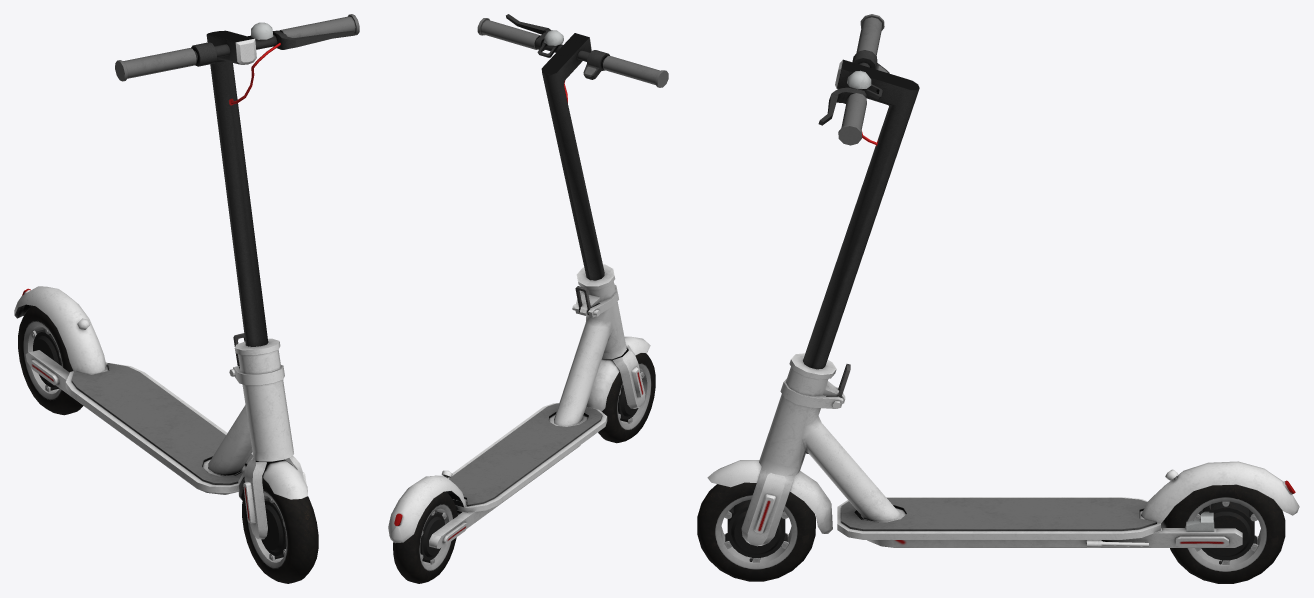
The model's file is SharedScooter.fbx.
3 views of the same model, side by side, from view 1: azimuth 30°, elevation 25°; view 2: azimuth 150°, elevation 25°; view 3: azimuth 270°, elevation 25° (orthographic). The views are drawn at different scales.
Visible parts, largest first — view 1: MainBody, HandleBar, FrontWheel, RearWheel, HandGripRight, HandGripLeft, Accelerator; view 2: MainBody, HandleBar, RearWheel, FrontWheel, HandGripRight, HandGripLeft, Accelerator, Bell; view 3: MainBody, HandleBar, RearWheel, FrontWheel, HandGripLeft, HandGripRight.
Boxes of the visible parts, left/top/right/bottom form: MainBody: left=14, top=286, right=293, bottom=494; HandleBar: left=194, top=30, right=307, bottom=539; FrontWheel: left=242, top=477, right=318, bottom=583; RearWheel: left=18, top=305, right=83, bottom=415; HandGripRight: left=115, top=48, right=196, bottom=81; HandGripLeft: left=279, top=14, right=359, bottom=37; Accelerator: left=191, top=42, right=216, bottom=66; MainBody: left=388, top=264, right=626, bottom=548; HandleBar: left=535, top=28, right=650, bottom=411; RearWheel: left=393, top=491, right=457, bottom=583; FrontWheel: left=598, top=353, right=655, bottom=443; HandGripRight: left=603, top=56, right=668, bottom=87; HandGripLeft: left=477, top=18, right=540, bottom=49; Accelerator: left=583, top=50, right=609, bottom=79; Bell: left=537, top=30, right=563, bottom=57; MainBody: left=759, top=353, right=1299, bottom=547; HandleBar: left=707, top=59, right=919, bottom=546; RearWheel: left=1166, top=484, right=1285, bottom=583; FrontWheel: left=697, top=482, right=815, bottom=581; HandGripLeft: left=838, top=93, right=866, bottom=145; HandGripRight: left=856, top=14, right=884, bottom=55.
Bounding box in the file's own units: 50.2 × 109 × 113.
Materials: 3 (3 with a texture image).
